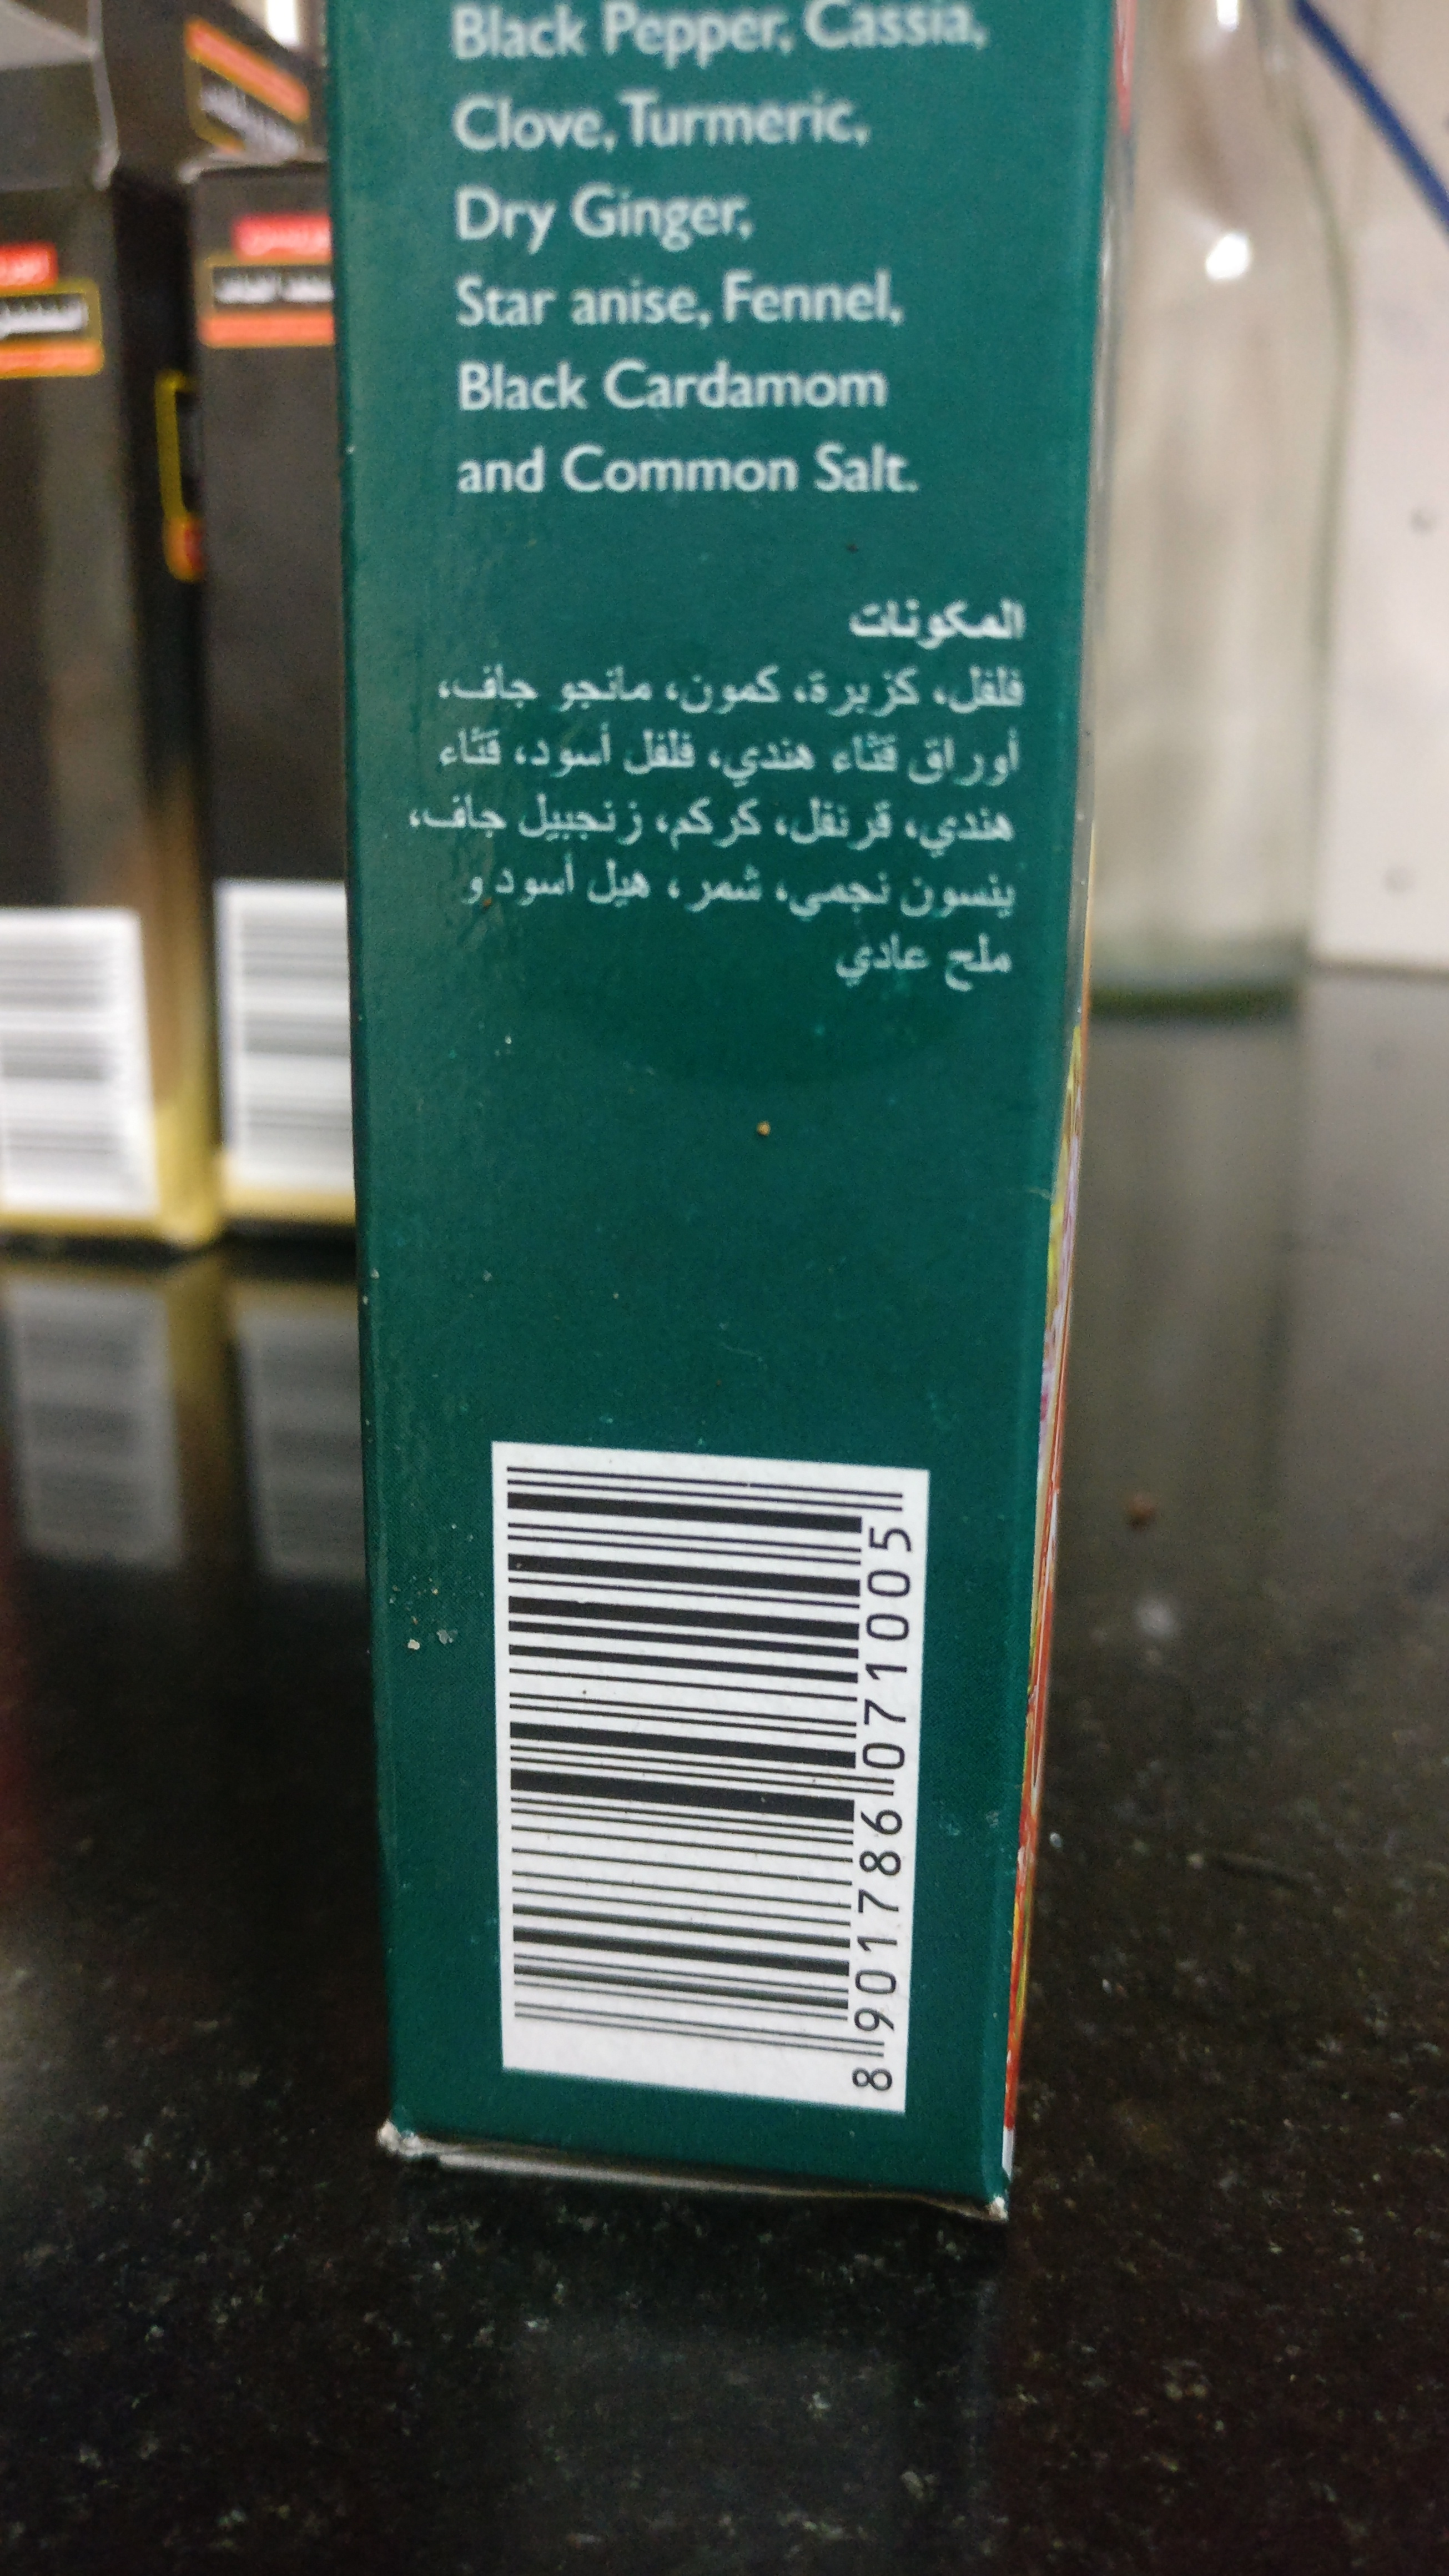barcode: (478, 1391, 929, 2123)
